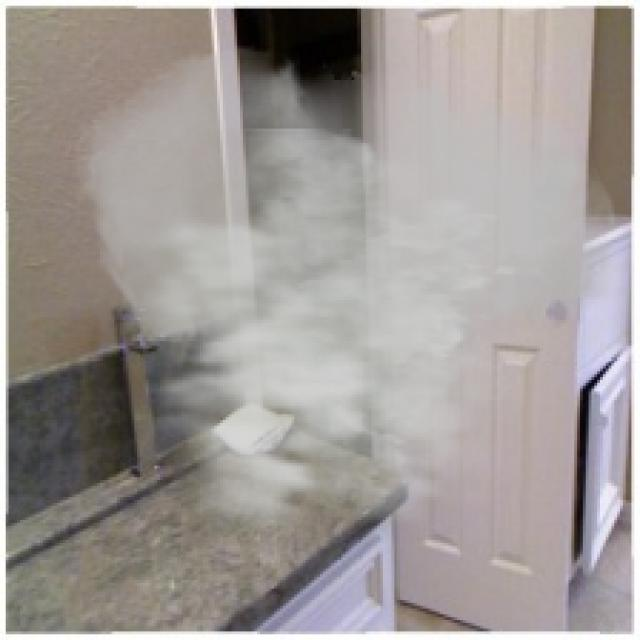smoke: (68, 43, 623, 560)
